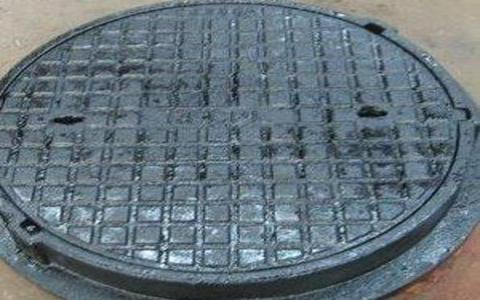proper manhole: (1, 1, 470, 286)
